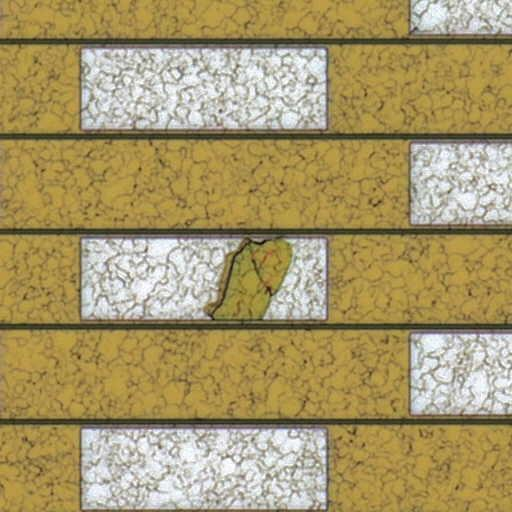BLOCK ETCH: (202, 232, 301, 329)
